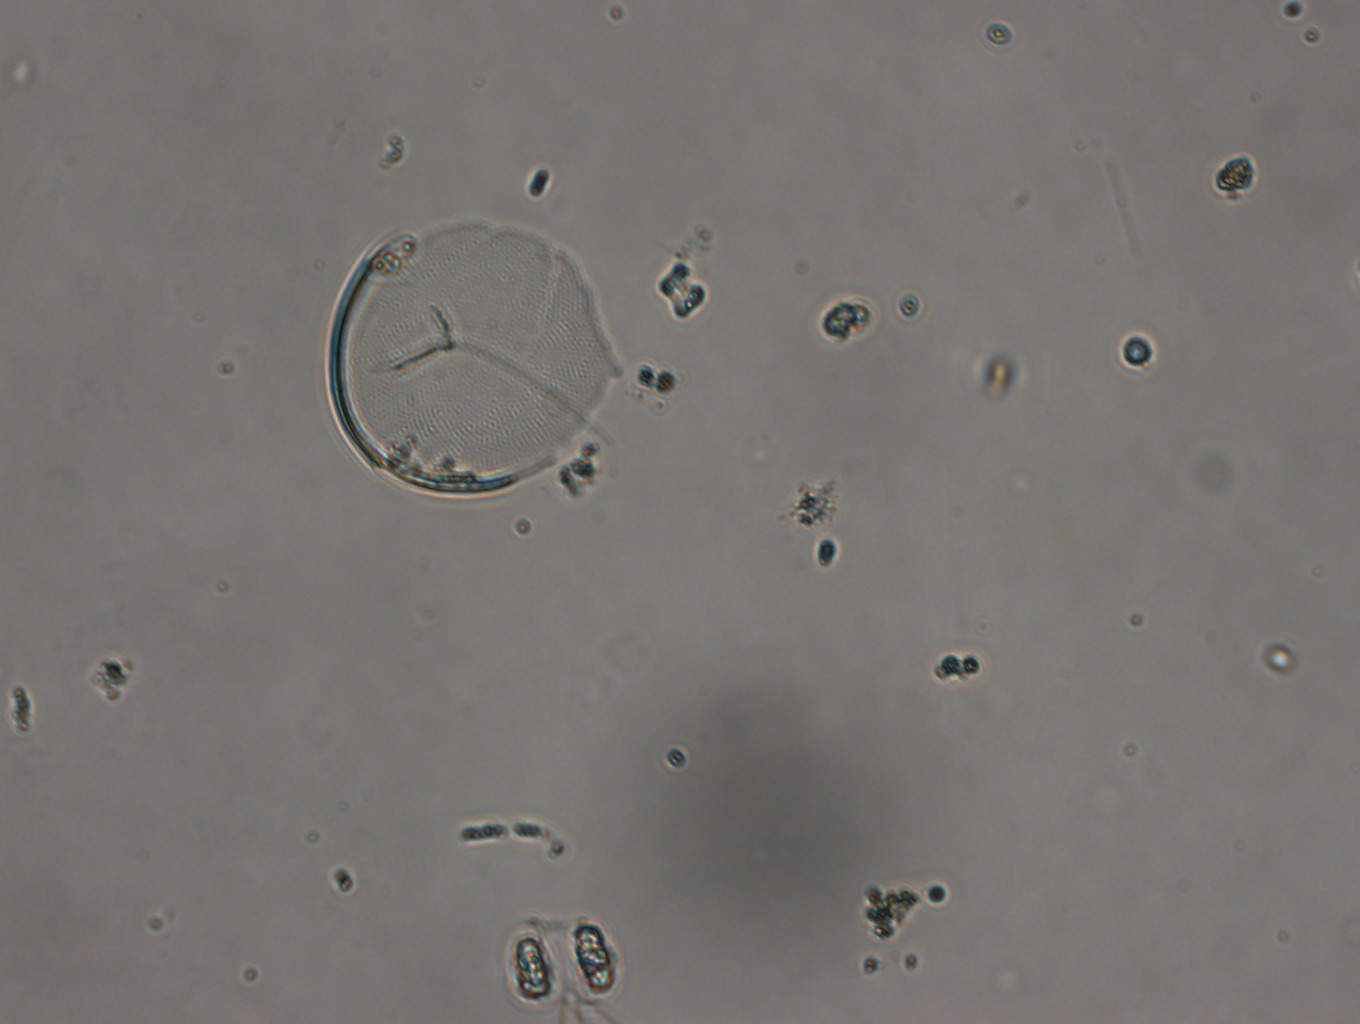coscinodiscus: (319, 207, 609, 503)
